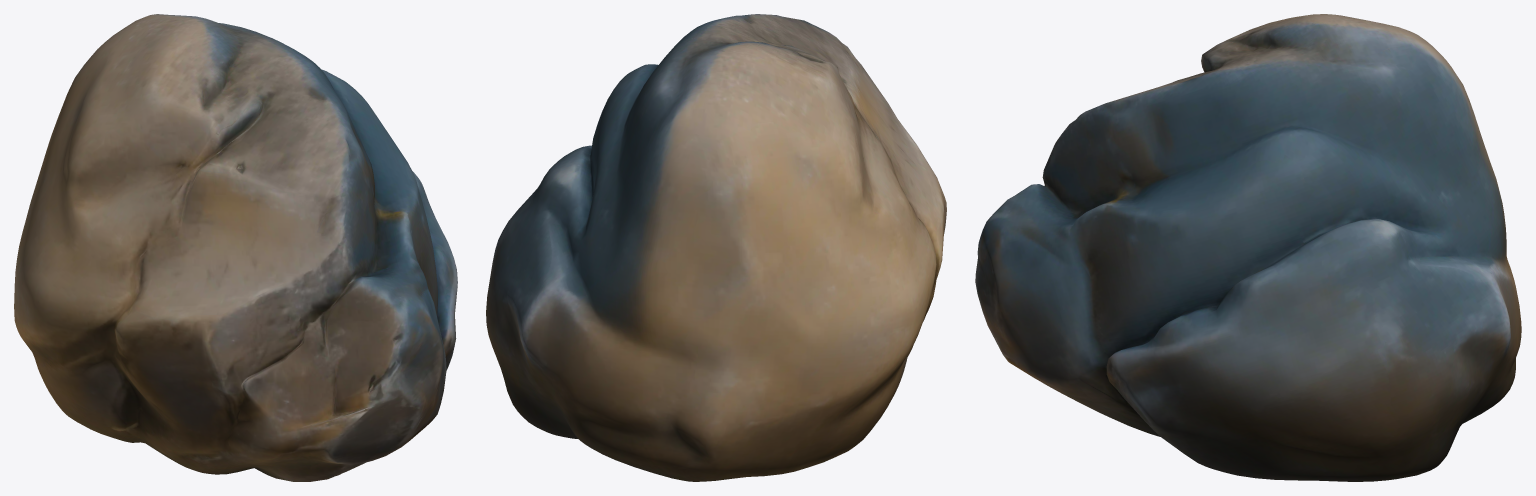
File: Nature__large_rock_realistic_style_8c363a1f_v3.cluster.glb
The picture shows the model from 3 angles, left to right: view 1: azimuth 30°, elevation 25°; view 2: azimuth 150°, elevation 25°; view 3: azimuth 270°, elevation 25°; orthographic projection.
Visible parts, largest first — view 1: material; view 2: material; view 3: material.
Boxes of the visible parts, x1,y1,x2,y2 form: material: (14,14,457,481); material: (486,14,946,481); material: (975,14,1521,481).
Size of the model in its own units: 1.58 by 1.47 by 1.9.
1 material, 1 textured.
